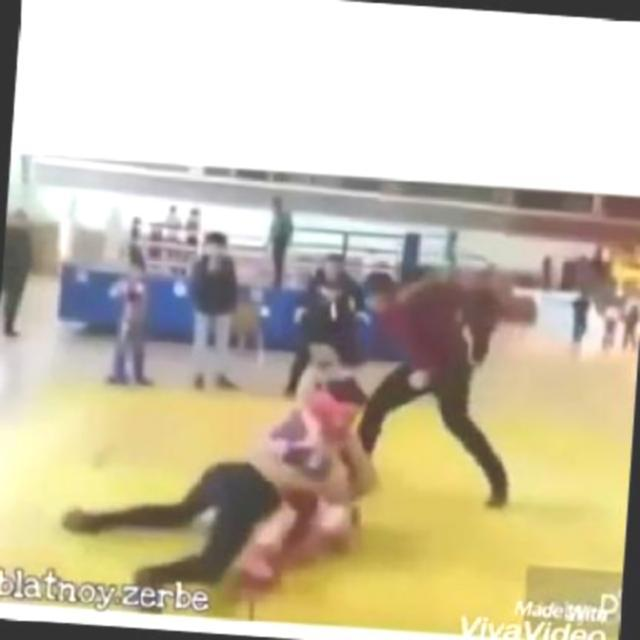fight: (171, 364, 395, 570)
